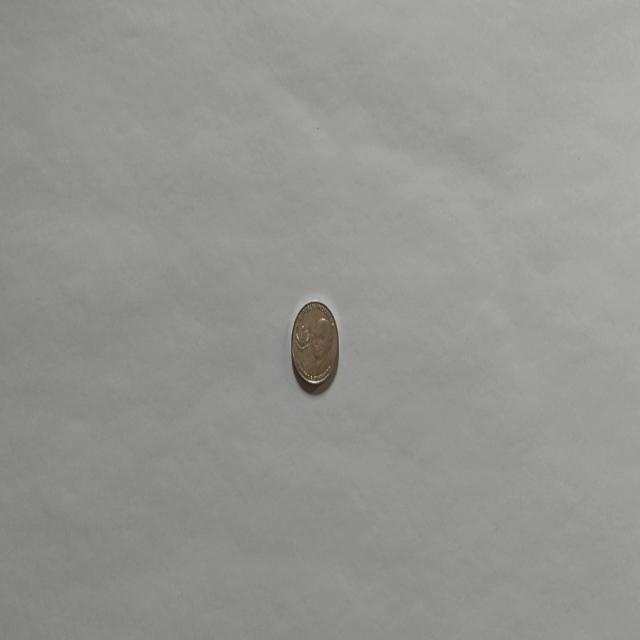lima ratus rupiah: (290, 298, 340, 391)
